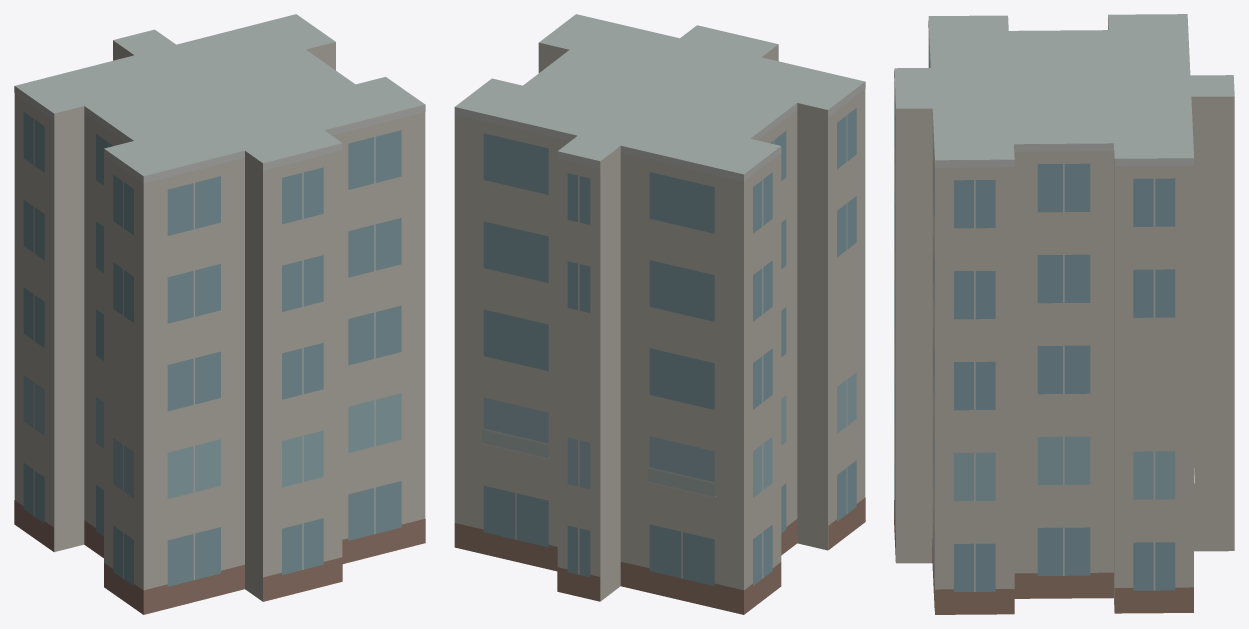
File: survey-upis-32956450.glb
The picture shows the model from 3 angles, left to right: view 1: azimuth 30°, elevation 25°; view 2: azimuth 150°, elevation 25°; view 3: azimuth 270°, elevation 25°; orthographic projection. The views are drawn at different scales.
Visible parts, largest first — view 1: survey-upis-32956450.tmp; view 2: survey-upis-32956450.tmp; view 3: survey-upis-32956450.tmp.
Part boxes in pixels (x1,y1,x2,y2): survey-upis-32956450.tmp: (14,14,425,614); survey-upis-32956450.tmp: (454,14,865,614); survey-upis-32956450.tmp: (894,14,1234,614).
Bounding box in the file's own units: 10.25 × 14.85 × 10.09.
